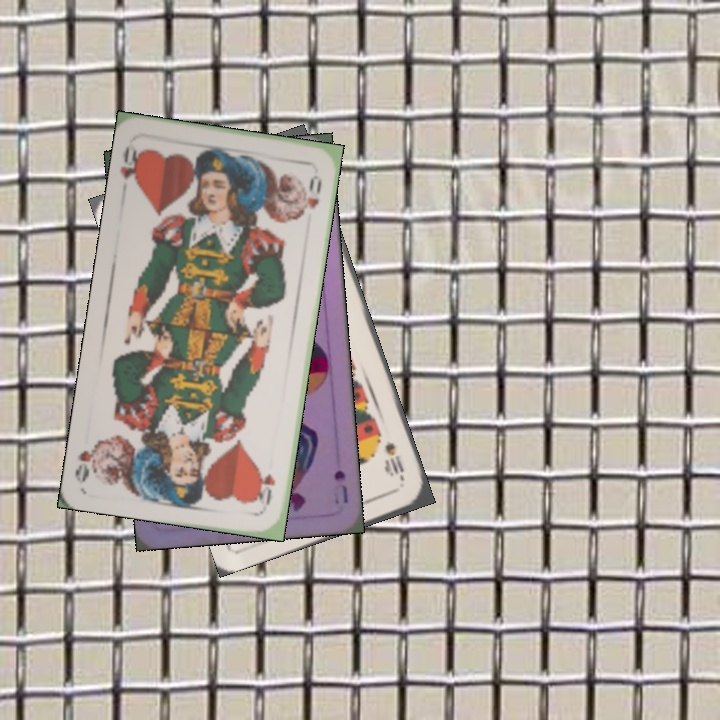HO: (116, 138, 146, 191), (254, 467, 278, 507)
S10: (380, 437, 407, 484)
SU: (330, 465, 351, 506)
